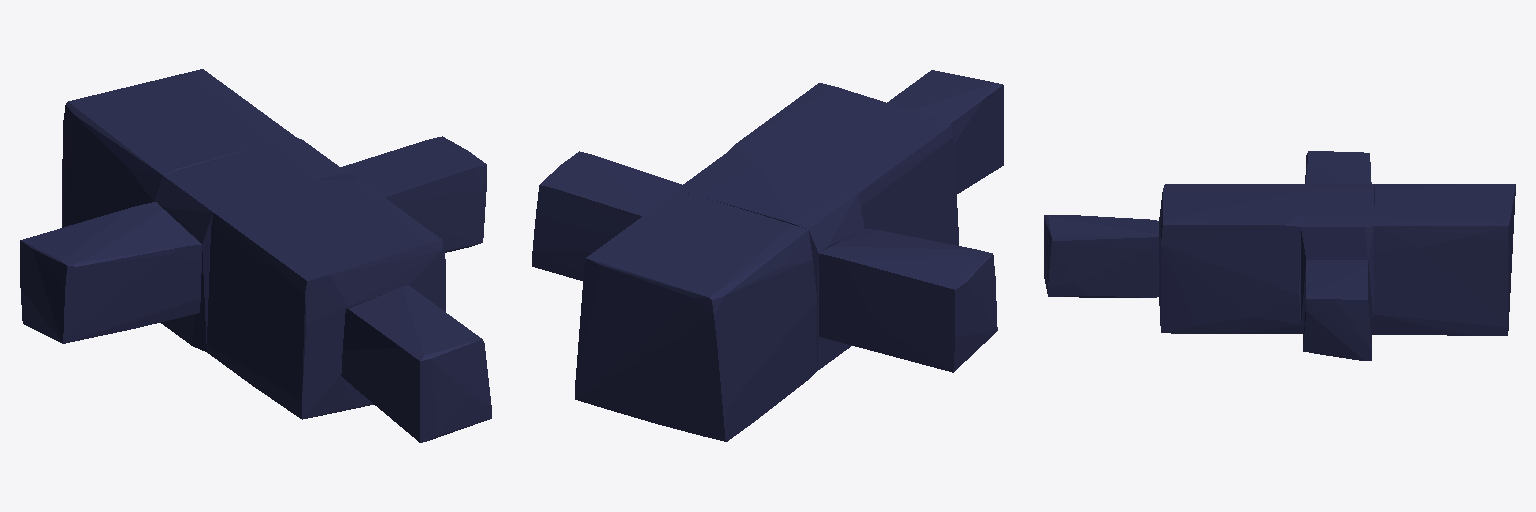
The robot description file, URDF, robot "blob837":
<robot name="blob837">
  <link name="random_obj_837">
    <contact>
      <lateral_friction value="1.0"/>
      <rolling_friction value="0.0"/>
      <inertia_scaling value="3.0"/>
      <contact_cfm value="0.0"/>
      <contact_erp value="1.0"/>
    </contact>
    <inertial>
      <origin rpy="0 0 0" xyz="0 0 0"/>
      <mass value="0.1"/>
      <inertia ixx="1" ixy="0" ixz="0" iyy="1" iyz="0" izz="0"/>
    </inertial>
    <visual>
      <origin rpy="0 0 0" xyz="0 0 0"/>
      <geometry>
        <mesh filename="837.obj" scale="0.015 0.015 0.015"/>
      </geometry>
      <material name="blockmat">
        <color rgba="0.21 0.22 0.36 1"/>
      </material>
    </visual>
    <collision>
      <origin rpy="0 0 0" xyz="0 0 0"/>
      <geometry>
        <mesh filename="837.obj" scale="0.015 0.015 0.015"/>
      </geometry>
    </collision>
  </link>
</robot>

--- What the picture shows (computed from the rendered views, not written in the file) ---
Views: 3 orthographic renders of the robot side by side, from view 1: azimuth 30°, elevation 25°; view 2: azimuth 150°, elevation 25°; view 3: azimuth 270°, elevation 25°.
Robot: blob837 — 1 links, 0 joints (none); root link random_obj_837; default pose: all joints at 0.
Visible links, largest first — view 1: random_obj_837; view 2: random_obj_837; view 3: random_obj_837.
Link boxes in pixels (x1=…): random_obj_837: x1=20, y1=69, x2=491, y2=442; random_obj_837: x1=532, y1=70, x2=1003, y2=441; random_obj_837: x1=1044, y1=151, x2=1515, y2=360.
Size in the robot's own frame: 0.0923 by 0.122 by 0.032 metres.
1 mesh visuals loaded from 1 distinct referenced files (1 OBJ).